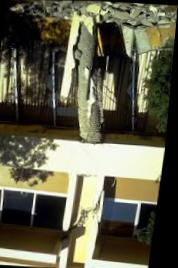damage: (60, 12, 106, 143), (64, 190, 104, 242)
